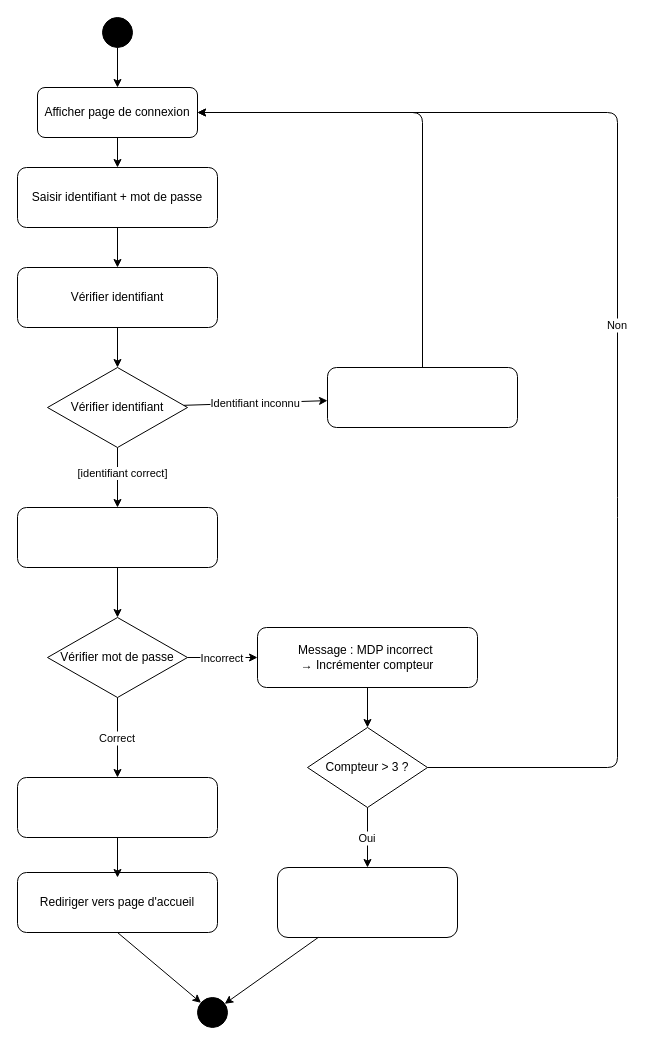
The diagram is 646 pixels wide and 1045 high, and some of its shapes have lost their labels. The centre of each missing label's shape, as x and y in pixels:
Bloquer compte + message: point 367,902
MDP correct → reset compteur: point 117,807
Message : identifiant inconnu: point 422,397
Vérifier MDP: point 117,537
